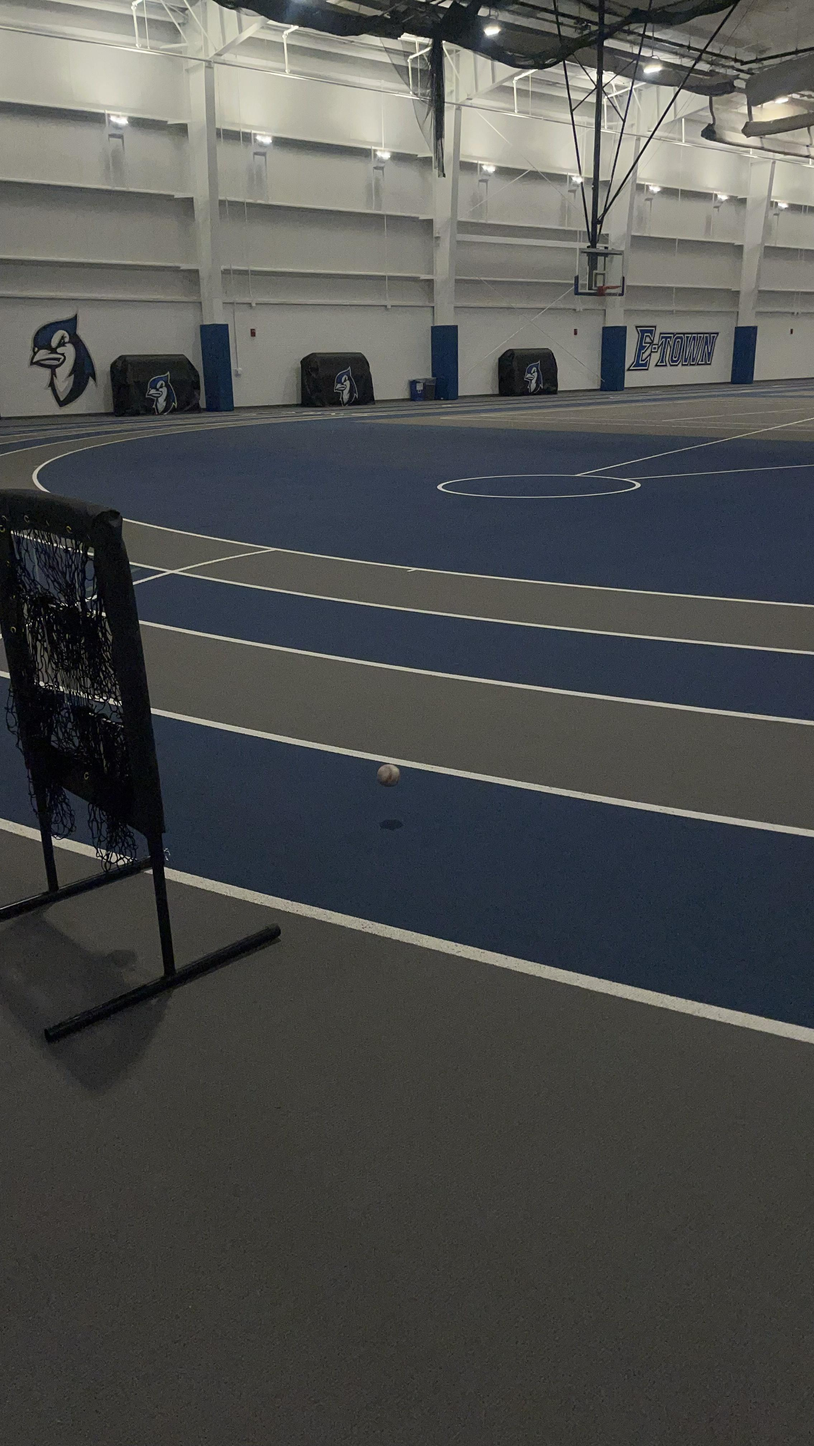Baseball: (375, 755, 405, 793)
